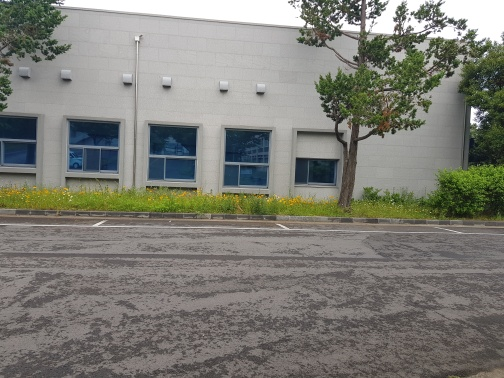College of Social Sciences: (10, 6, 478, 232), (57, 104, 282, 214)
